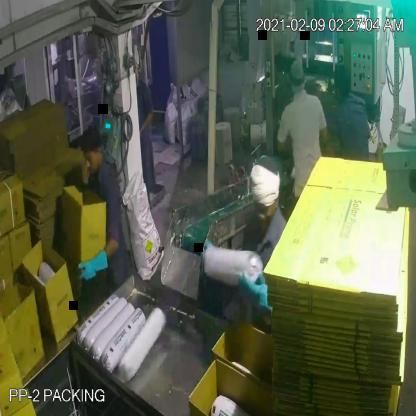glove: (236, 268, 277, 321), (76, 250, 110, 286)
no_glove: (139, 107, 153, 136)
